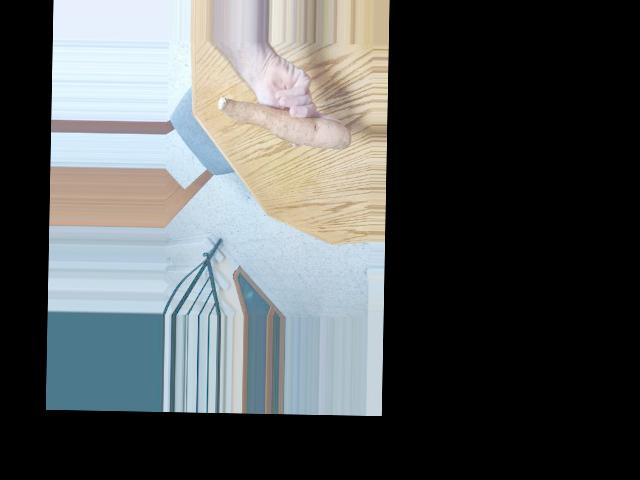sweet_potato: (215, 91, 348, 153)
